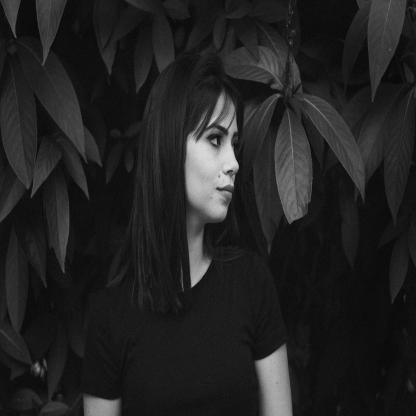Eye: (206, 127, 226, 150), (230, 138, 240, 154)
Mouth: (214, 182, 236, 202)
Nose: (221, 143, 240, 177)
